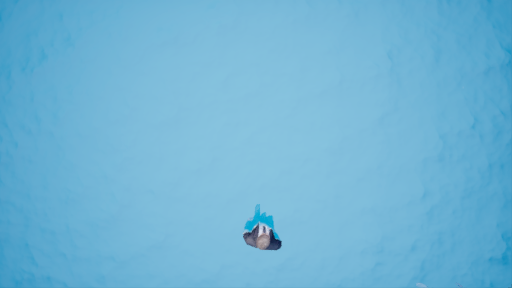person: (237, 201, 291, 254)
